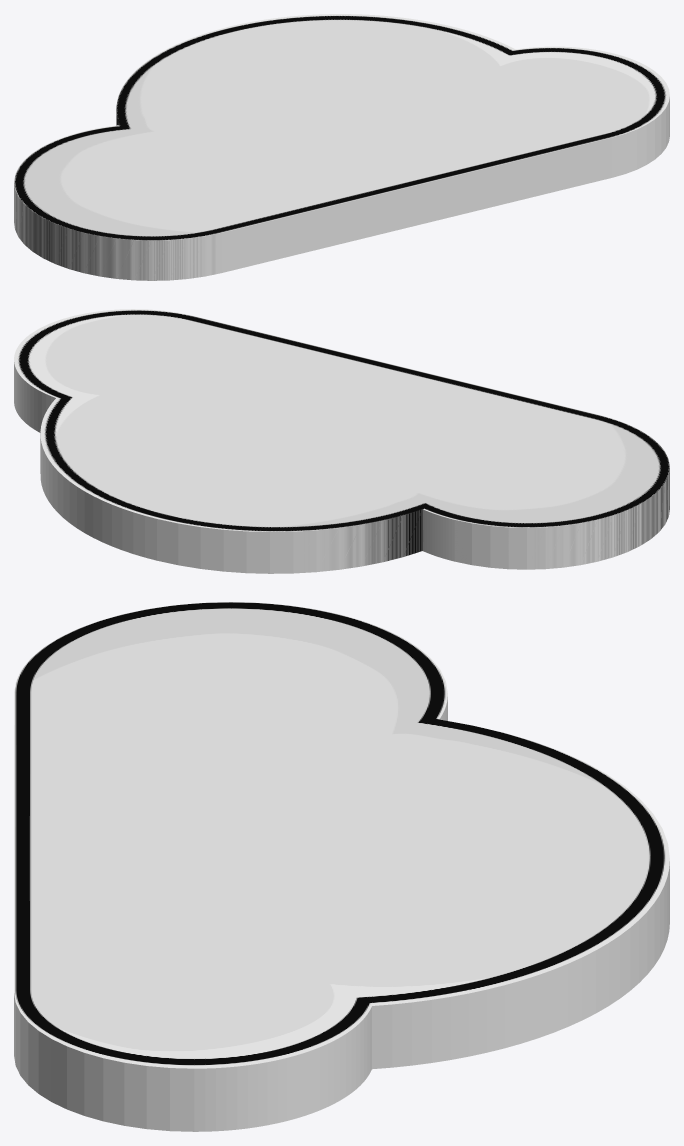
Rendered from wolk-1.dae.
The picture shows the model from 3 angles, top to bottom: view 1: azimuth 30°, elevation 25°; view 2: azimuth 150°, elevation 25°; view 3: azimuth 270°, elevation 25°; orthographic projection. The views are drawn at different scales.
Parts seen in each view (by area): view 1: Curve_001; view 2: Curve_001; view 3: Curve_001.
Boxes of the visible parts, x1=… form: Curve_001: x1=14, y1=14, x2=669, y2=280; Curve_001: x1=14, y1=309, x2=669, y2=573; Curve_001: x1=14, y1=602, x2=669, y2=1131.
Size of the model in its own units: 0.1584 by 0.0941 by 0.01.
1 material, 1 textured.
